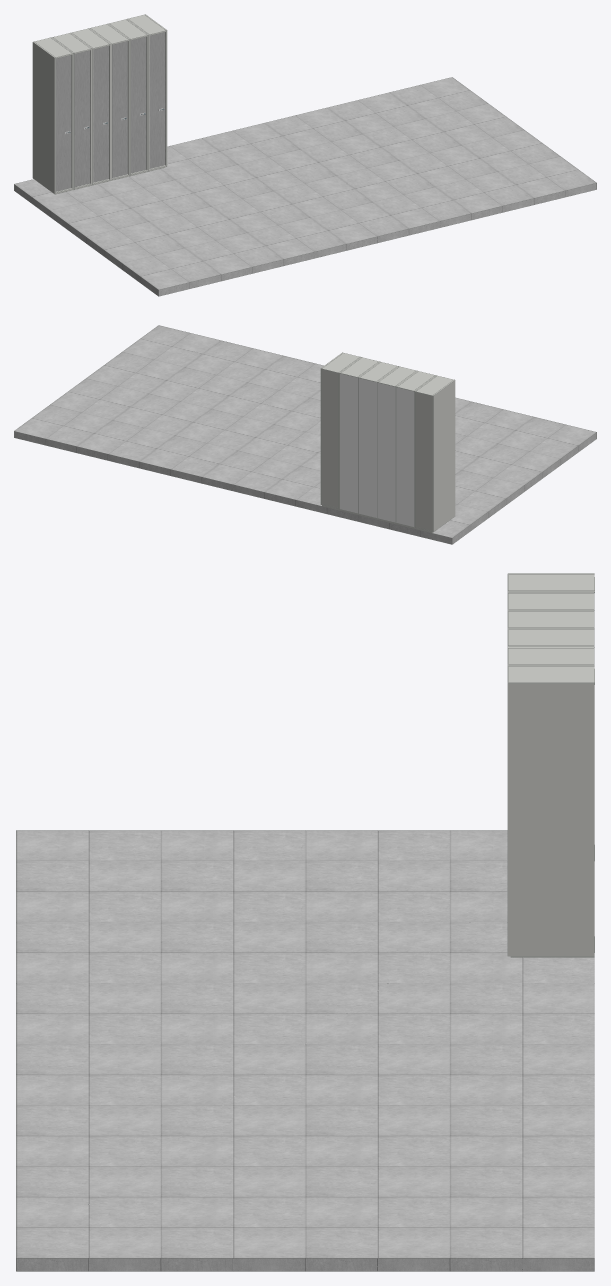
The model's file is modell.glb.
3 renders of one model, top to bottom at view 1: azimuth 30°, elevation 25°; view 2: azimuth 150°, elevation 25°; view 3: azimuth 270°, elevation 25°, orthographic. The views are drawn at different scales.
Size of the model in its own units: 7003 by 2203 by 4003.
Materials: 11 (4 with a texture image).
